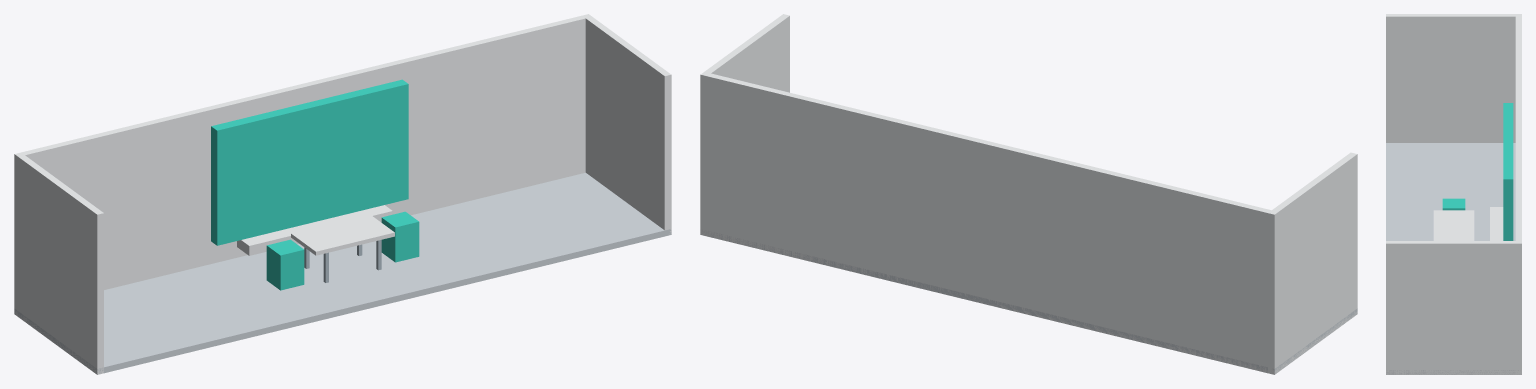
3 views of the same model, side by side, from view 1: azimuth 30°, elevation 25°; view 2: azimuth 150°, elevation 25°; view 3: azimuth 270°, elevation 25° (orthographic). The views are drawn at different scales.
Visible parts, largest first — view 1: Exhibition Booth Concept; view 2: Exhibition Booth Concept; view 3: Exhibition Booth Concept.
Boxes of the visible parts, bbox=[...] form: Exhibition Booth Concept: bbox=[14, 14, 671, 374]; Exhibition Booth Concept: bbox=[700, 14, 1357, 374]; Exhibition Booth Concept: bbox=[1386, 14, 1521, 374].
Bounding box in the file's own units: 12 × 3.2 × 3.
